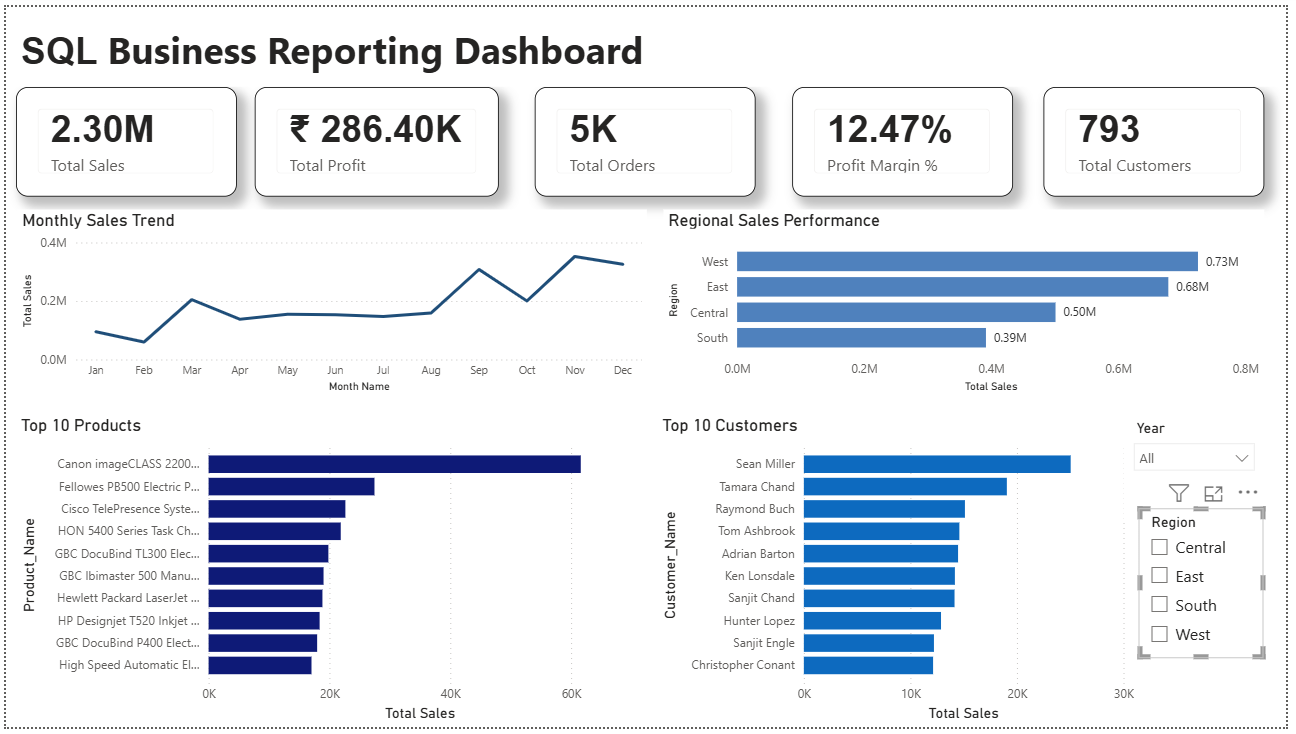

The page's visual inventory and layout, read from the dashboard file:
{"tool":"powerbi","page":{"name":"Page 1","canvas":[1280,720],"ordinal":0},"visuals":[{"type":"cardVisual","fields":{"Data":["Measures (2).Total Sales"]},"box":[9.6,79.6,220.9,109.8],"z":0},{"type":"cardVisual","fields":{"Data":["Measures (2).Profit Margin %"]},"box":[786.3,79.6,220.9,109.8],"z":1},{"type":"cardVisual","fields":{"Data":["Measures (2).Total Customers"]},"box":[1037.4,79.6,220.9,109.8],"z":2},{"type":"cardVisual","fields":{"Data":["Measures (2).Total Orders"]},"box":[528.3,79.6,220.9,109.8],"z":3},{"type":"cardVisual","fields":{"Data":["Measures (2).Total Profit"]},"box":[248.4,79.6,244.3,109.8],"z":4},{"type":"textbox","box":[9.6,12.3,1270.7,67.2],"z":5},{"type":"lineChart","title":" Monthly Sales Trend","fields":{"Y":["Measures (2).Total Sales"],"Category":["sales_reporting.Month Name"]},"box":[11,203.1,629.8,188],"z":6},{"type":"clusteredBarChart","title":"Regional Sales Performance","fields":{"Y":["Measures (2).Total Sales"],"Category":["sales_reporting.Region"]},"box":[657.3,203.1,601,188],"z":7},{"type":"barChart","title":"Top 10 Products","fields":{"Y":["Measures (2).Total Sales"],"Category":["sales_reporting.Product_Name"]},"box":[9.4,407.5,630.7,312],"z":8},{"type":"barChart","title":"Top 10 Customers","fields":{"Category":["sales_reporting.Customer_Name"],"Y":["Measures (2).Total Sales"]},"box":[650.9,407.5,481.4,312],"z":9},{"type":"slicer","fields":{"Values":["sales_reporting.Year"]},"box":[1117.5,407.5,141.2,107.6],"z":10},{"type":"slicer","fields":{"Values":["sales_reporting.Region"]},"box":[1132.3,501.6,125.1,149.3],"z":11}]}

Visuals, with their boxes in screenshot pixels (x1, y1, x2, y2), scaled from the page's 1280x720 canvas onto the 1296x734 screenshot:
cardVisual - Measures (2).Total Sales: 10:81:233:193
cardVisual - Measures (2).Profit Margin %: 796:81:1020:193
cardVisual - Measures (2).Total Customers: 1050:81:1274:193
cardVisual - Measures (2).Total Orders: 535:81:759:193
cardVisual - Measures (2).Total Profit: 252:81:499:193
textbox: 10:13:1295:81
" Monthly Sales Trend" lineChart: 11:207:649:399
"Regional Sales Performance" clusteredBarChart: 666:207:1274:399
"Top 10 Products" barChart: 10:415:648:733
"Top 10 Customers" barChart: 659:415:1146:733
slicer - sales_reporting.Year: 1131:415:1274:525
slicer - sales_reporting.Region: 1146:511:1273:664
